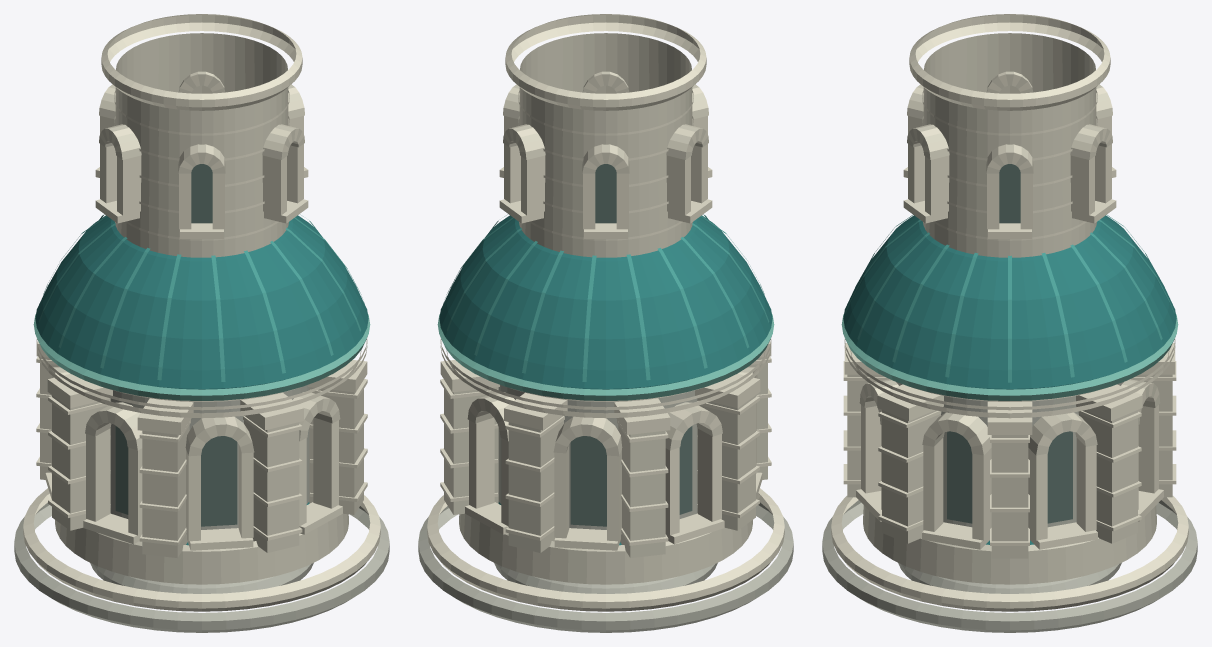
File: world06-temple-architecture.glb
3 renders of one model, left to right at view 1: azimuth 30°, elevation 25°; view 2: azimuth 150°, elevation 25°; view 3: azimuth 270°, elevation 25°, orthographic.
Parts seen in each view (by area): view 1: temple-pavilion-jade_roof, temple-pavilion-limestone_light, temple-pavilion-limestone, tower-shaft-limestone, tower-shaft-limestone_light, temple-pavilion-limestone_shadow, temple-pavilion-window_recess, temple-pavilion-jade_edge, temple-pavilion-jade_rib, tower-shaft-limestone_shadow, tower-shaft-window_recess; view 2: temple-pavilion-jade_roof, temple-pavilion-limestone_light, temple-pavilion-limestone, tower-shaft-limestone, tower-shaft-limestone_light, temple-pavilion-limestone_shadow, temple-pavilion-window_recess, temple-pavilion-jade_edge, temple-pavilion-jade_rib, tower-shaft-limestone_shadow, tower-shaft-window_recess; view 3: temple-pavilion-jade_roof, temple-pavilion-limestone_light, temple-pavilion-limestone, tower-shaft-limestone, tower-shaft-limestone_light, temple-pavilion-limestone_shadow, temple-pavilion-window_recess, temple-pavilion-jade_edge, temple-pavilion-jade_rib, tower-shaft-limestone_shadow, tower-shaft-window_recess.
Boxes of the visible parts, <box> form: temple-pavilion-jade_roof: <box>35,215,368,389</box>; temple-pavilion-limestone_light: <box>23,339,380,611</box>; temple-pavilion-limestone: <box>40,356,363,584</box>; tower-shaft-limestone: <box>99,33,304,257</box>; tower-shaft-limestone_light: <box>95,14,308,240</box>; temple-pavilion-limestone_shadow: <box>14,385,389,632</box>; temple-pavilion-window_recess: <box>115,426,237,526</box>; temple-pavilion-jade_edge: <box>33,314,370,400</box>; temple-pavilion-jade_rib: <box>38,214,364,381</box>; tower-shaft-limestone_shadow: <box>90,563,313,593</box>; tower-shaft-window_recess: <box>191,164,212,223</box>; temple-pavilion-jade_roof: <box>439,215,772,389</box>; temple-pavilion-limestone_light: <box>427,339,784,611</box>; temple-pavilion-limestone: <box>444,356,767,584</box>; tower-shaft-limestone: <box>503,33,708,257</box>; tower-shaft-limestone_light: <box>499,14,712,240</box>; temple-pavilion-limestone_shadow: <box>418,385,793,632</box>; temple-pavilion-window_recess: <box>570,426,692,526</box>; temple-pavilion-jade_edge: <box>437,314,774,400</box>; temple-pavilion-jade_rib: <box>443,214,769,381</box>; tower-shaft-limestone_shadow: <box>494,563,717,593</box>; tower-shaft-window_recess: <box>595,164,616,223</box>; temple-pavilion-jade_roof: <box>843,215,1176,389</box>; temple-pavilion-limestone_light: <box>831,339,1188,611</box>; temple-pavilion-limestone: <box>847,374,1172,584</box>; tower-shaft-limestone: <box>907,33,1112,257</box>; tower-shaft-limestone_light: <box>903,14,1116,240</box>; temple-pavilion-limestone_shadow: <box>822,382,1197,632</box>; temple-pavilion-window_recess: <box>947,431,1072,523</box>; temple-pavilion-jade_edge: <box>841,314,1178,400</box>; temple-pavilion-jade_rib: <box>845,215,1174,382</box>; tower-shaft-limestone_shadow: <box>898,563,1121,593</box>; tower-shaft-window_recess: <box>999,164,1020,223</box>.
Size of the model in its own units: 6.76 by 10 by 6.76.
